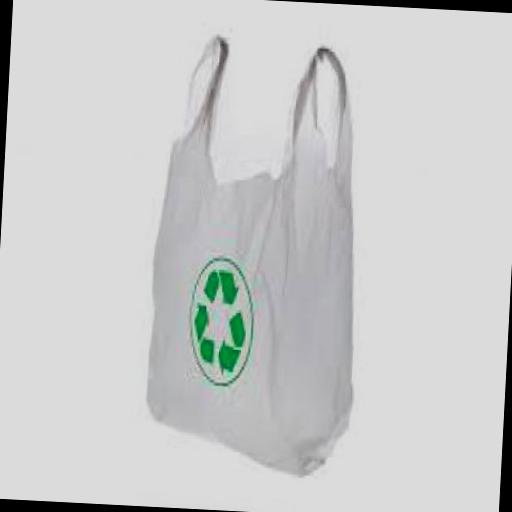plastic: (139, 32, 369, 474)
